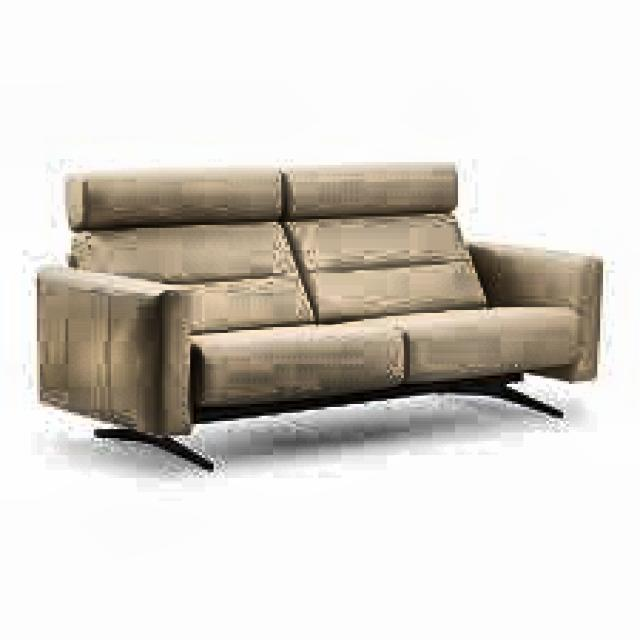sofa: (26, 162, 608, 478)
